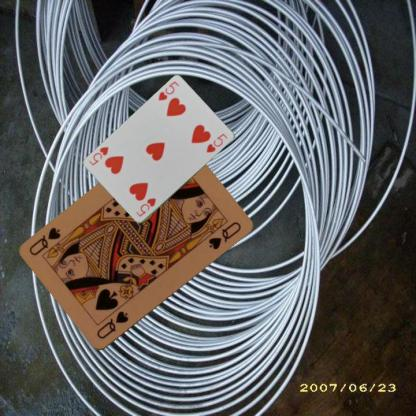5h: (156, 79, 180, 102), (134, 196, 157, 218)
Qs: (93, 308, 130, 341)
